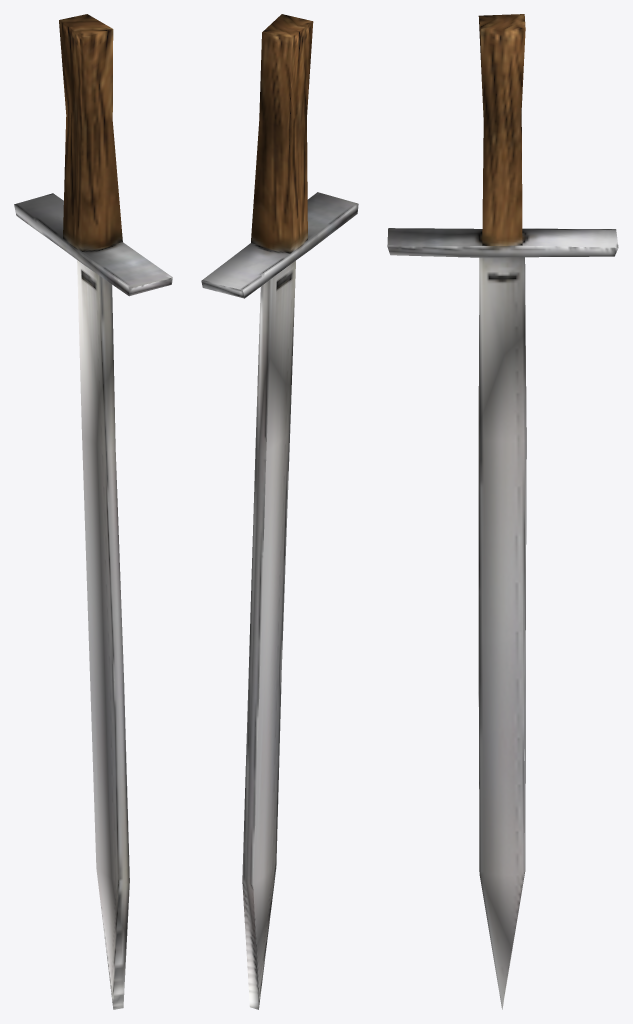
Rendered from sword.FBX.
3 views of the same model, side by side, from view 1: azimuth 30°, elevation 25°; view 2: azimuth 150°, elevation 25°; view 3: azimuth 270°, elevation 25° (orthographic). The views are drawn at different scales.
Parts seen in each view (by area): view 1: sword; view 2: sword; view 3: sword.
Part boxes in pixels (x1,y1,x2,y2): sword: [14, 14, 172, 1009]; sword: [201, 14, 358, 1009]; sword: [387, 14, 618, 1009].
Size of the model in its own units: 1.14 by 20.29 by 4.38.
